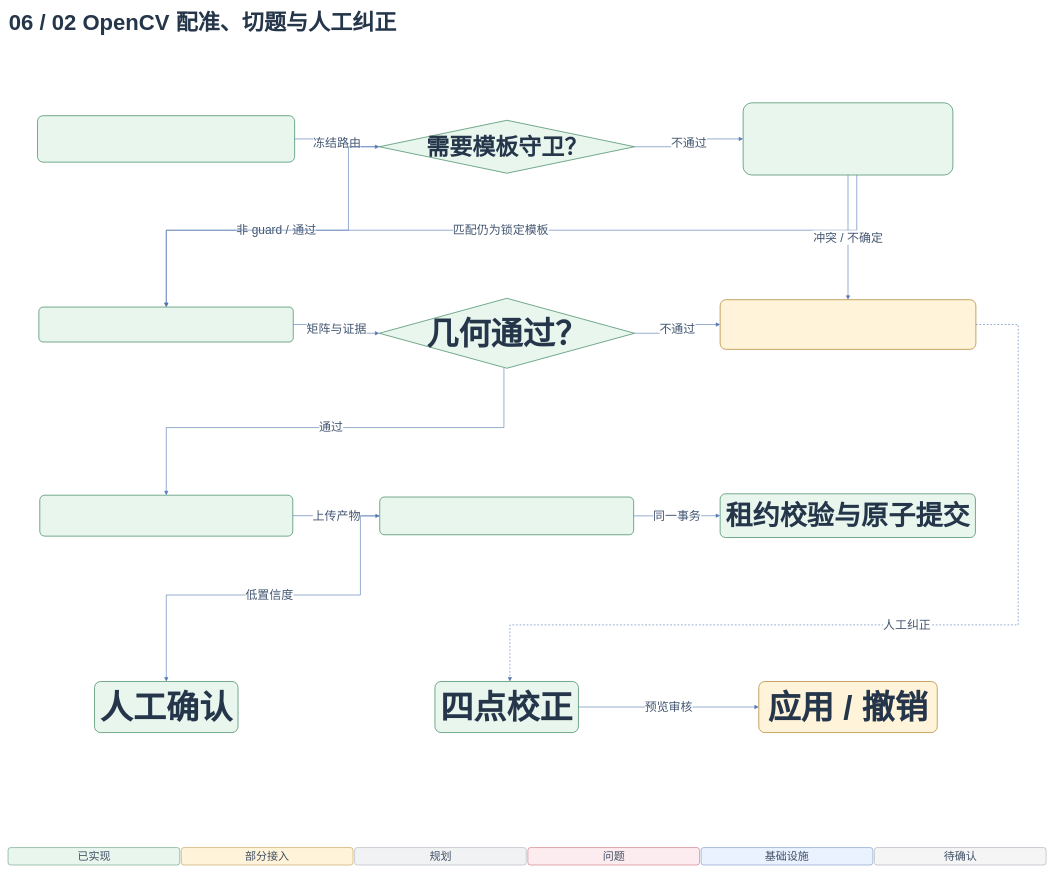
The diagram is 1056 pixels wide and 873 high, and some of its shapes have lost their labels. The shapes that lost their labels are listed below. From the top down, each one's centre as x and y in pixels, then its label:
At (166,138): "标准化页面 + 模板".
At (848,138): "小范围重匹配 不替换考试锁定模板".
At (165,324): "像素一致 / ORB → AKAZE".
At (848,324): "算法失败 → 人工".
At (166,515): "透视校正 → ROI 裁片".
At (506,515): "写入配准、裁片与页状态".
